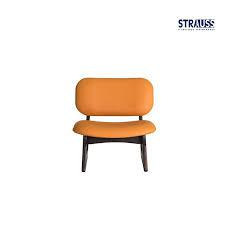chair: (58, 63, 174, 181)
